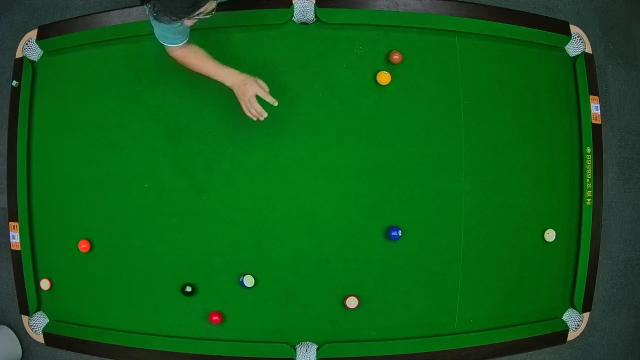bag1: (20, 40, 42, 62)
bag2: (294, 2, 318, 26)
bag3: (566, 34, 586, 57)
bag4: (29, 310, 47, 332)
bag5: (294, 340, 320, 360)
bag6: (562, 308, 584, 332)
ball0: (544, 229, 556, 243)
ball1: (376, 70, 392, 86)
ball10: (240, 274, 256, 288)
ball11: (344, 294, 361, 310)
ball12: (38, 277, 52, 291)
ball2: (386, 224, 402, 242)
ball3: (209, 310, 223, 326)
ball5: (78, 239, 90, 253)
ball7: (388, 50, 404, 64)
ball8: (180, 282, 196, 298)
